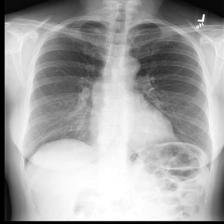normal: (18, 14, 215, 177)
